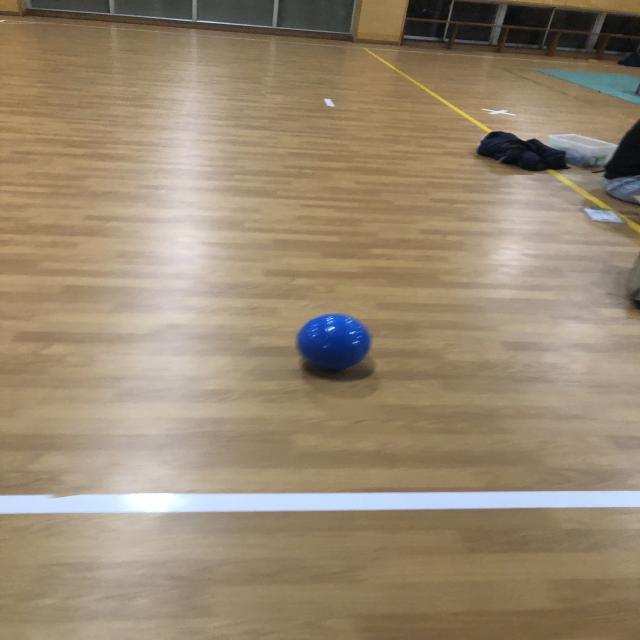blue_ball: (294, 312, 374, 369)
